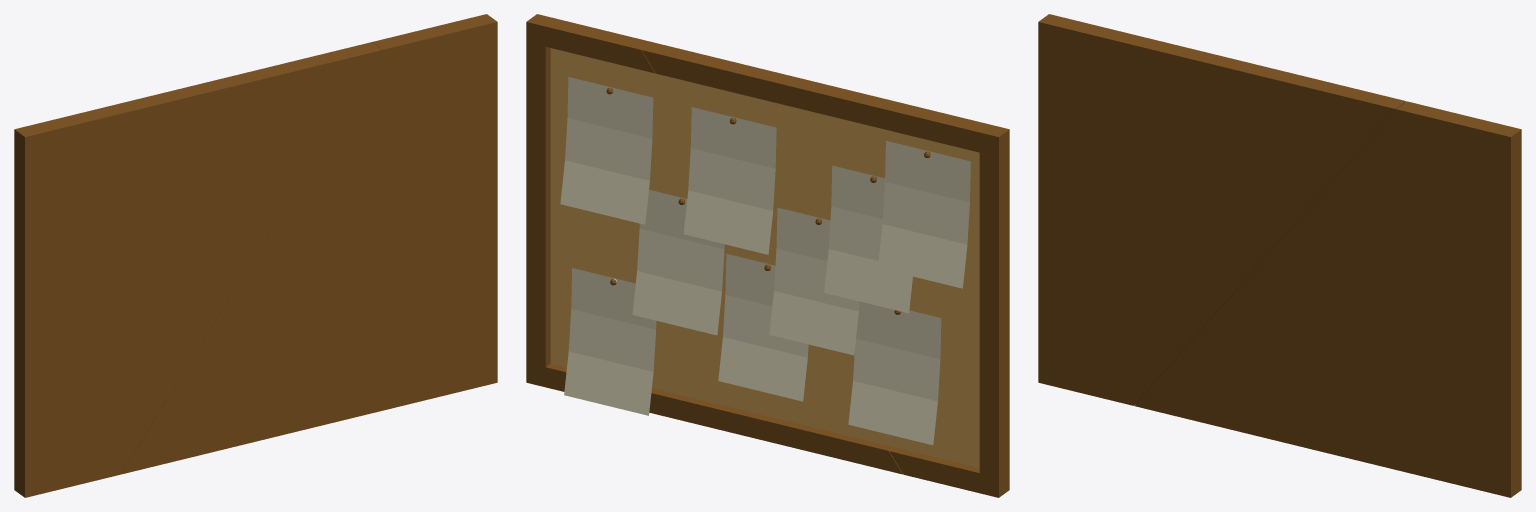
File: pandemonium_bulletin_fractured.fbx
3 views of the same model, side by side, from view 1: azimuth 30°, elevation 25°; view 2: azimuth 150°, elevation 25°; view 3: azimuth 330°, elevation 25° (orthographic).
Visible parts, largest first — view 1: Cube.030_cell.017, Cube.030_cell; view 2: Cube.030_cell, Cube.030_cell.017, Cube.478, Cube.419, Cube.477, Cube.475, Cube.474, Cube.480, Cube.479, Cube.319, Cube.476; view 3: Cube.030_cell.017, Cube.030_cell.
Part boxes in pixels (bbox=[...]): Cube.030_cell.017: bbox=[120, 14, 497, 474]; Cube.030_cell: bbox=[14, 42, 382, 497]; Cube.030_cell: bbox=[641, 42, 1009, 497]; Cube.030_cell.017: bbox=[526, 14, 903, 474]; Cube.478: bbox=[683, 107, 776, 254]; Cube.419: bbox=[878, 140, 970, 288]; Cube.477: bbox=[560, 77, 653, 224]; Cube.475: bbox=[848, 301, 941, 445]; Cube.474: bbox=[564, 268, 656, 415]; Cube.480: bbox=[632, 189, 724, 335]; Cube.479: bbox=[769, 207, 859, 355]; Cube.319: bbox=[718, 253, 808, 401]; Cube.476: bbox=[824, 165, 912, 313]; Cube.030_cell.017: bbox=[1134, 101, 1521, 497]; Cube.030_cell: bbox=[1038, 14, 1406, 405].
Size of the model in its own units: 251 by 183 by 12.73.
